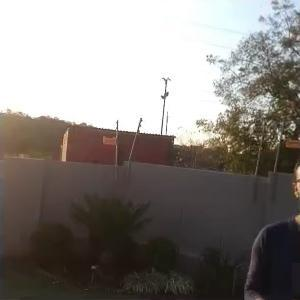follow: (238, 149, 298, 298)
